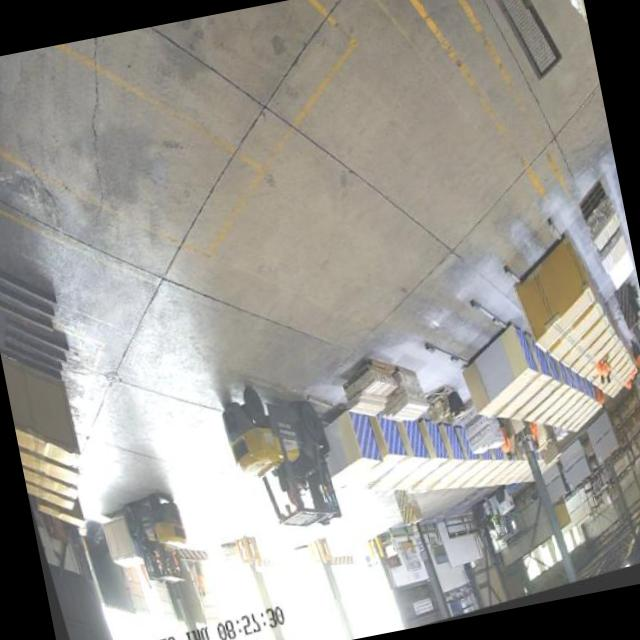forklift: (206, 362, 354, 562), (118, 473, 200, 597), (467, 484, 524, 550)
person: (495, 418, 515, 460), (190, 562, 209, 601), (528, 421, 542, 449), (594, 384, 608, 412), (594, 360, 608, 386)
